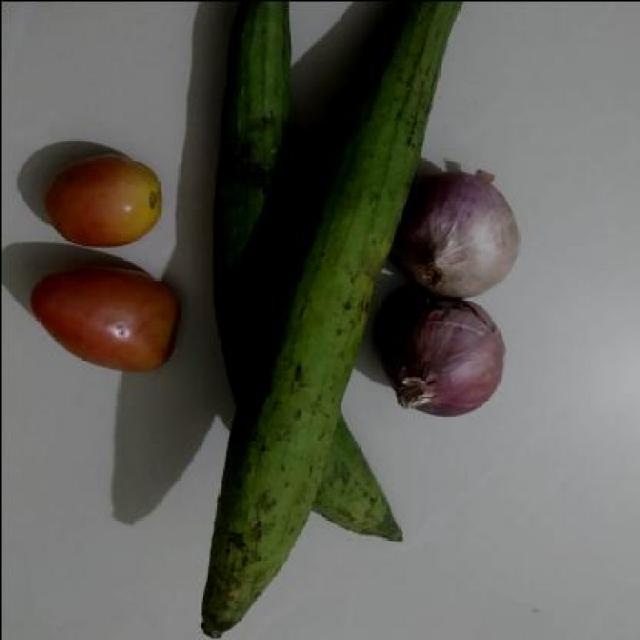onion: (389, 160, 537, 300), (376, 291, 506, 423)
tomato: (17, 251, 183, 389), (28, 151, 190, 263)
